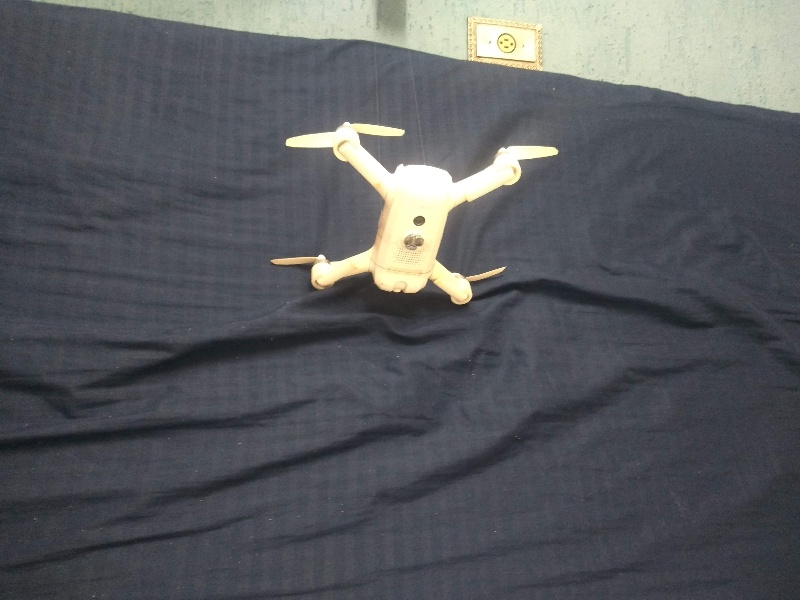drone: (277, 113, 554, 311)
